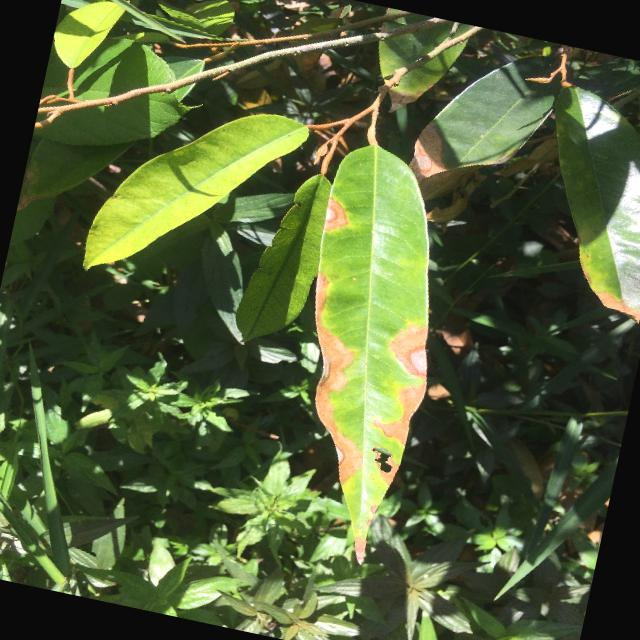Leaf Blight: (247, 132, 482, 574)
